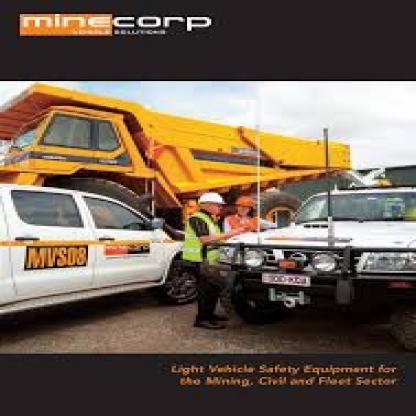person: (176, 185, 236, 335)
